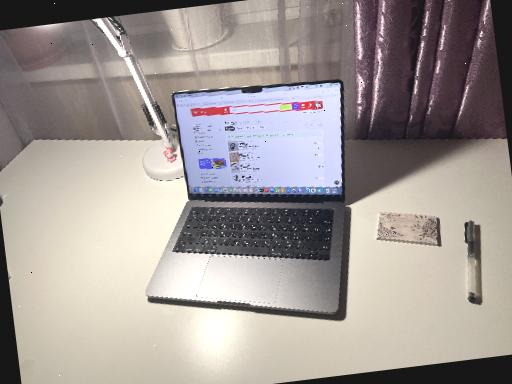aliexpress: (176, 86, 342, 196)
